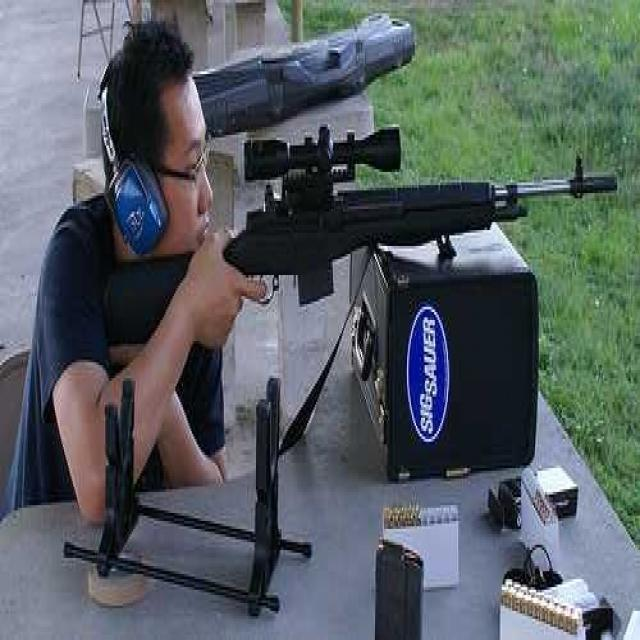weapon: (101, 87, 630, 402)
